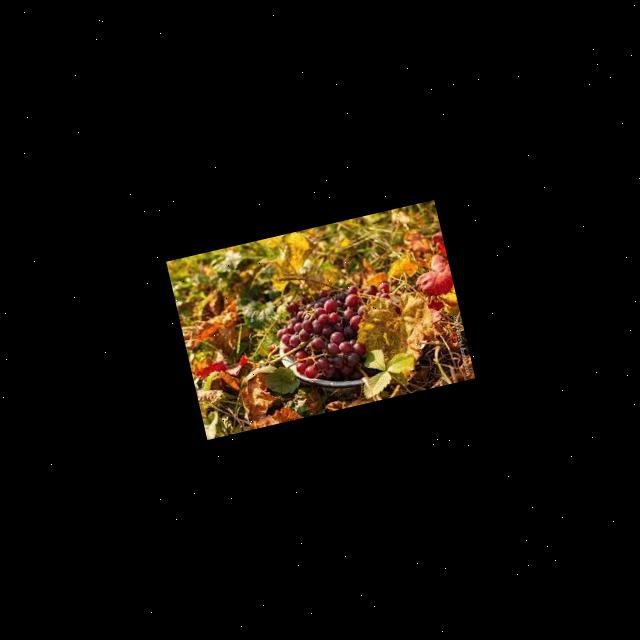grape: (268, 274, 408, 394)
